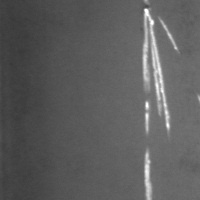scratches: (139, 1, 181, 134), (140, 149, 159, 200)
